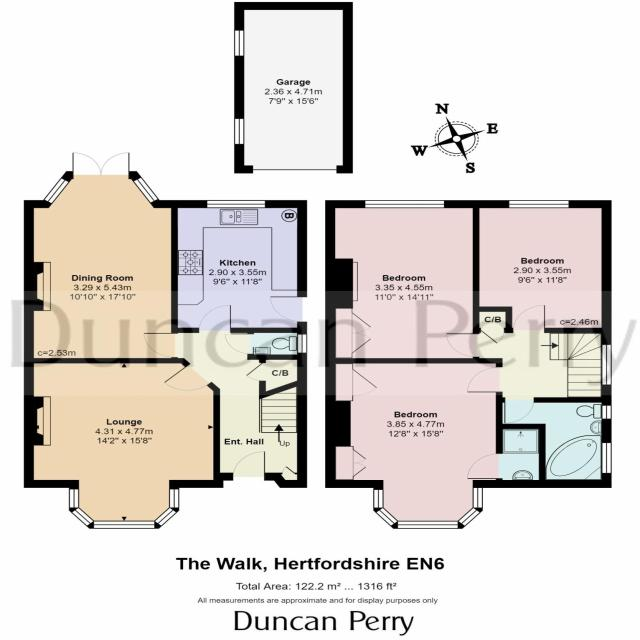DOOR: (162, 363, 213, 392), (466, 452, 504, 480), (269, 296, 308, 323), (142, 332, 180, 359), (512, 304, 546, 334), (231, 451, 266, 480), (197, 304, 232, 333), (467, 366, 503, 393), (445, 332, 480, 358), (503, 397, 535, 424), (224, 333, 254, 356)
DOUBLE DOOR: (68, 148, 133, 178)
ROOM: (325, 358, 546, 530), (23, 152, 180, 364), (325, 200, 480, 364), (472, 200, 612, 333), (171, 200, 307, 333)
WINDOW: (372, 487, 484, 529), (68, 488, 180, 529), (132, 175, 161, 205), (42, 177, 71, 206), (364, 200, 446, 209), (507, 199, 570, 209), (206, 199, 267, 209), (600, 344, 612, 385), (601, 442, 612, 474), (601, 404, 612, 420)
